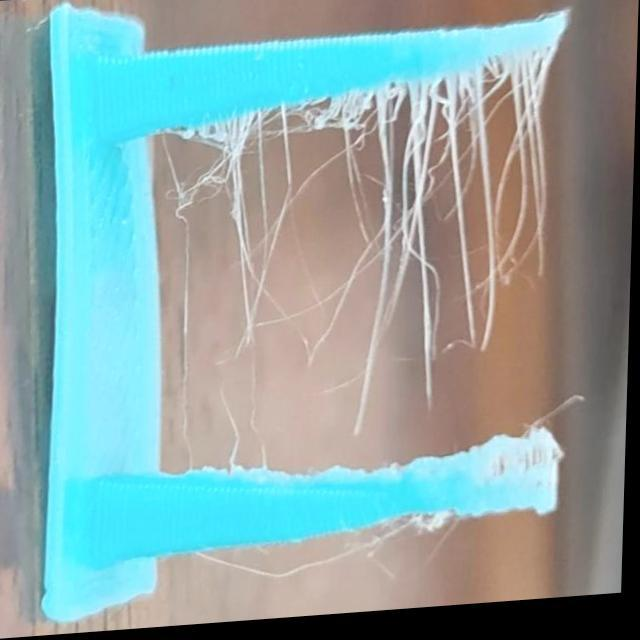stringing: (158, 58, 563, 451)
